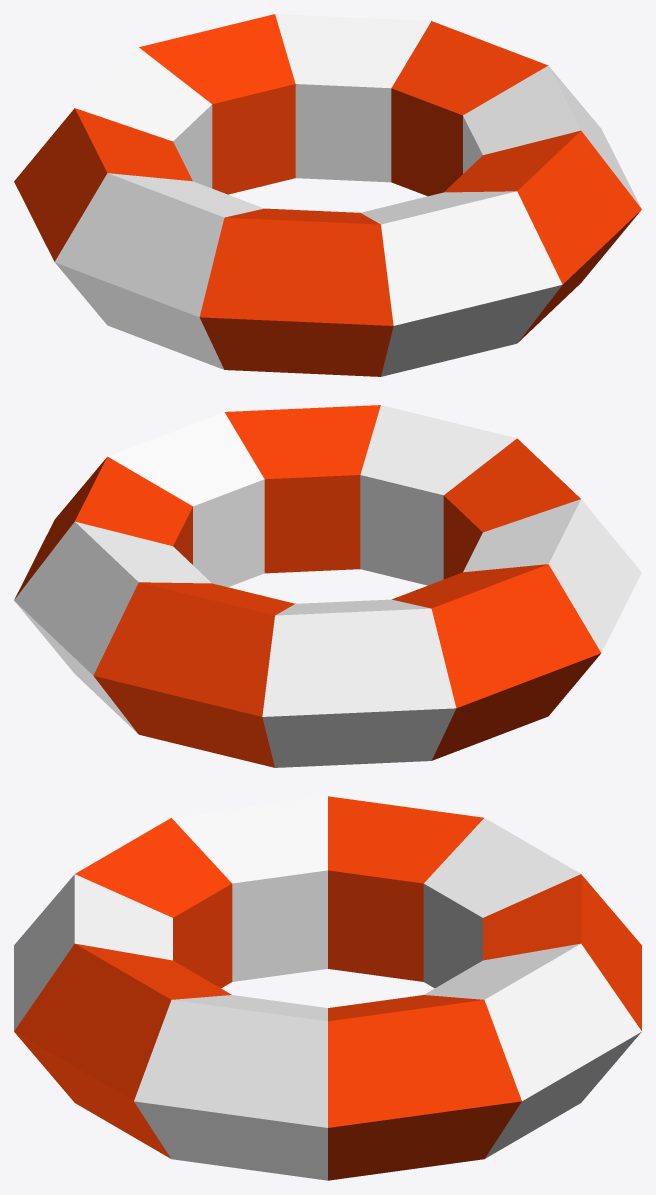
The picture shows the model from 3 angles, top to bottom: view 1: azimuth 30°, elevation 25°; view 2: azimuth 150°, elevation 25°; view 3: azimuth 270°, elevation 25°; orthographic projection. The views are drawn at different scales.
Parts seen in each view (by area): view 1: lifebuoy; view 2: lifebuoy; view 3: lifebuoy.
Part boxes in pixels (box(x1,y1,x2,y2)): lifebuoy: box(14, 14, 641, 376); lifebuoy: box(14, 405, 641, 767); lifebuoy: box(14, 796, 641, 1180).
Bounding box in the file's own units: 2.5 × 0.6657 × 2.38.
Materials: 1 (1 with a texture image).
